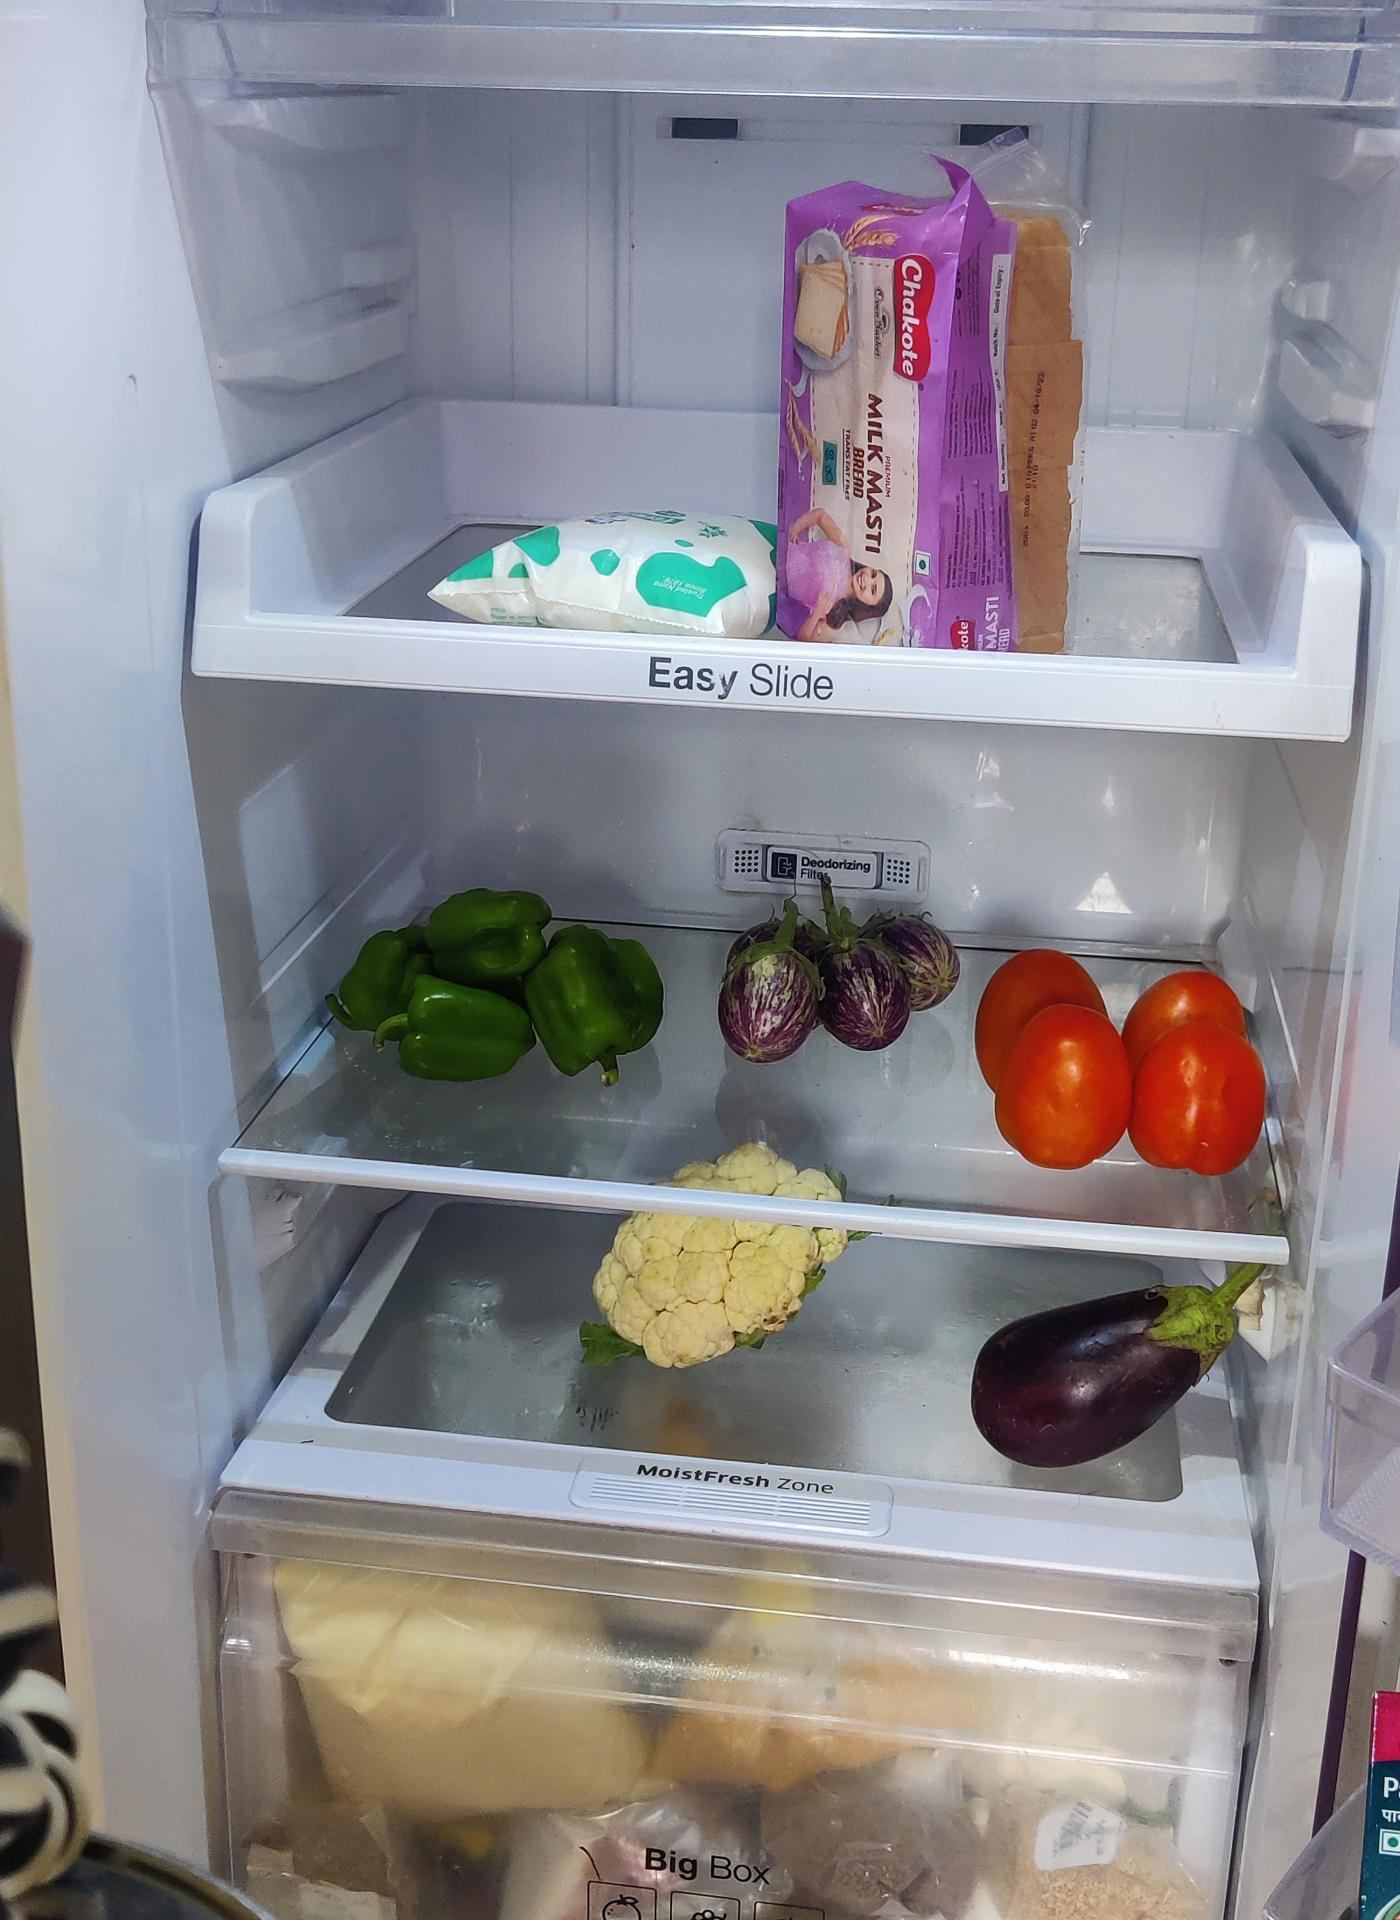bread: (778, 167, 1088, 654)
brinjal: (714, 891, 953, 1058)
capsicum: (334, 882, 662, 1082)
cauliflower: (590, 1143, 847, 1371), (975, 1267, 1243, 1464)
milk: (440, 501, 780, 637)
tomato: (977, 947, 1267, 1175)
